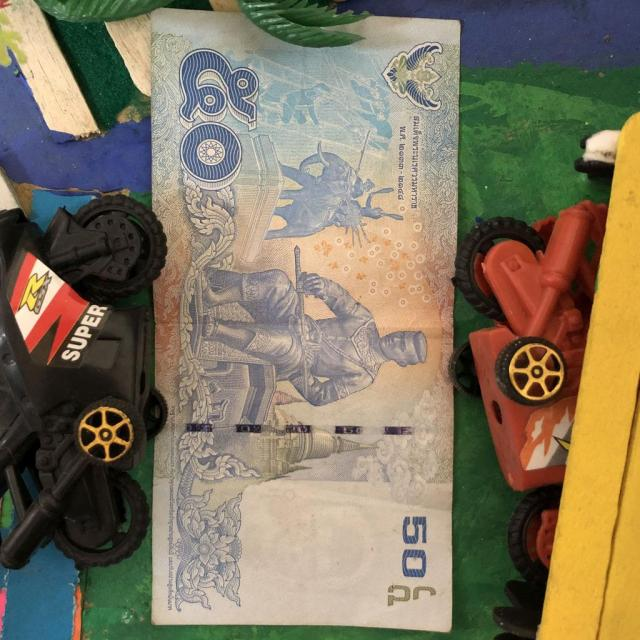THAI50: (148, 9, 461, 635)
